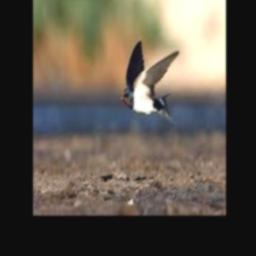Swallow: (120, 40, 179, 123)
